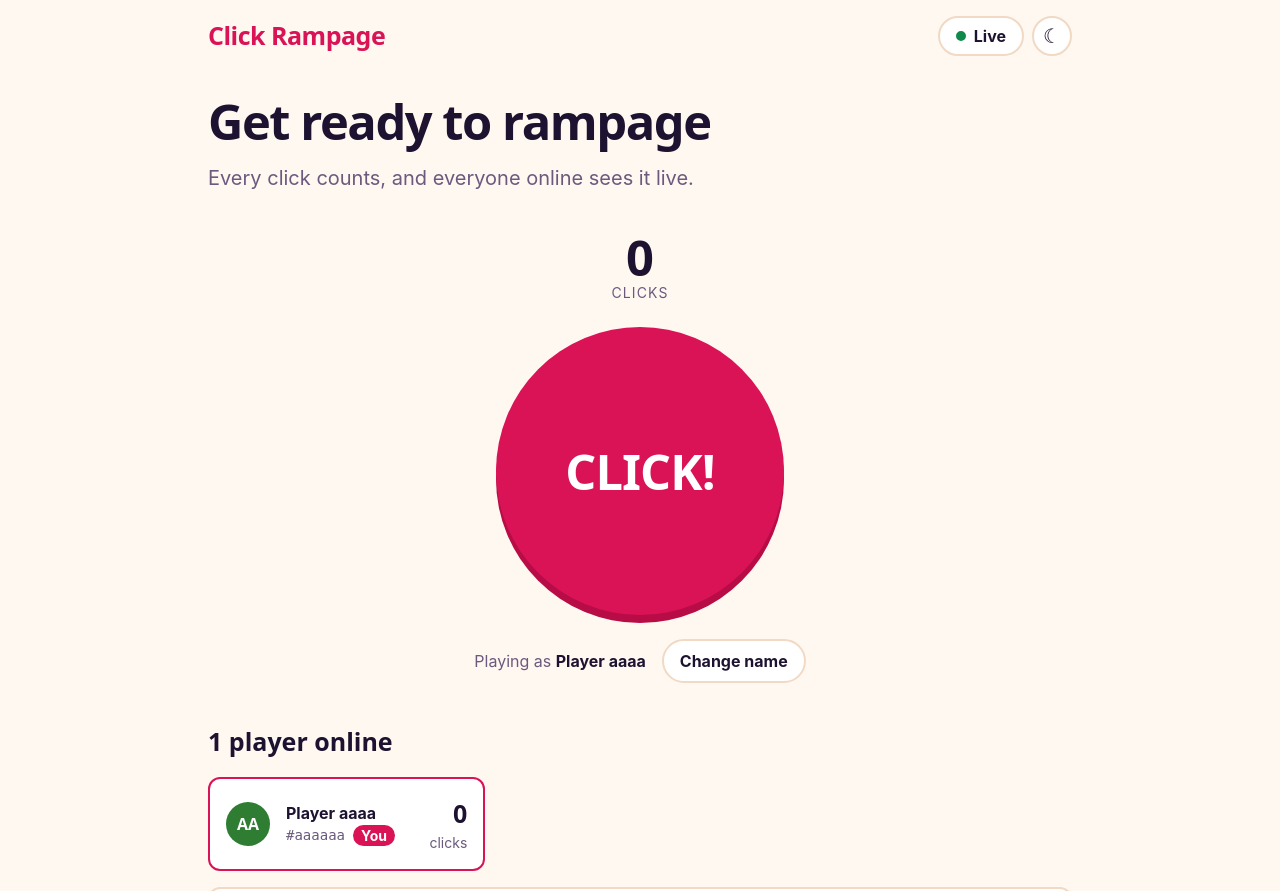
Scenario: / route › disables clicking and renaming after you go offline
This screenshot has width=1280, height=891.
Expected: the button "Click!" is enabled, [496,327,784,615]
Expected: the button "Change name" is enabled, [662,639,806,683]
Click the switch labelled "Live": coordinates (981, 36) [938,16,1024,56]
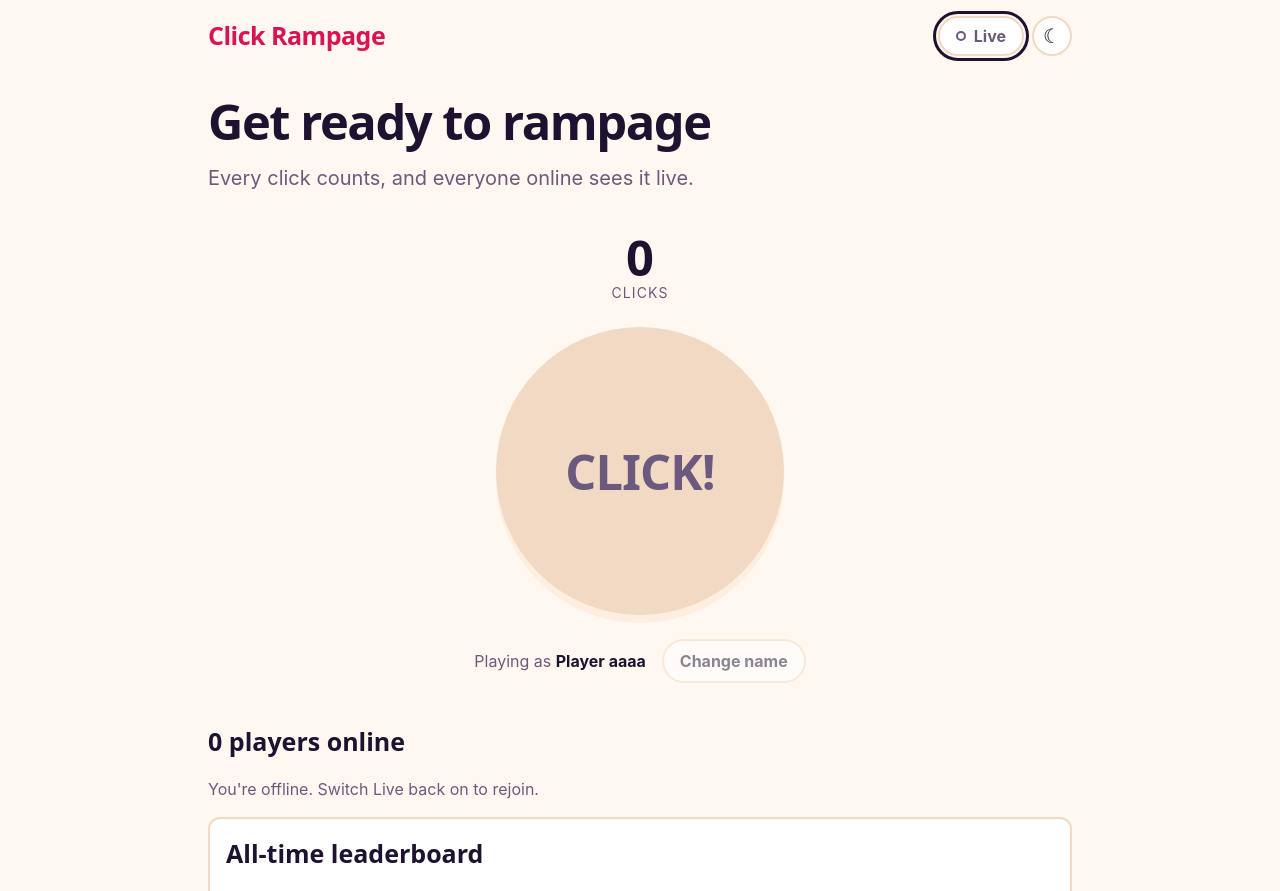
Result: the button "Click!" is disabled at [496,327,784,615]
Result: the button "Change name" is disabled at [662,639,806,683]
